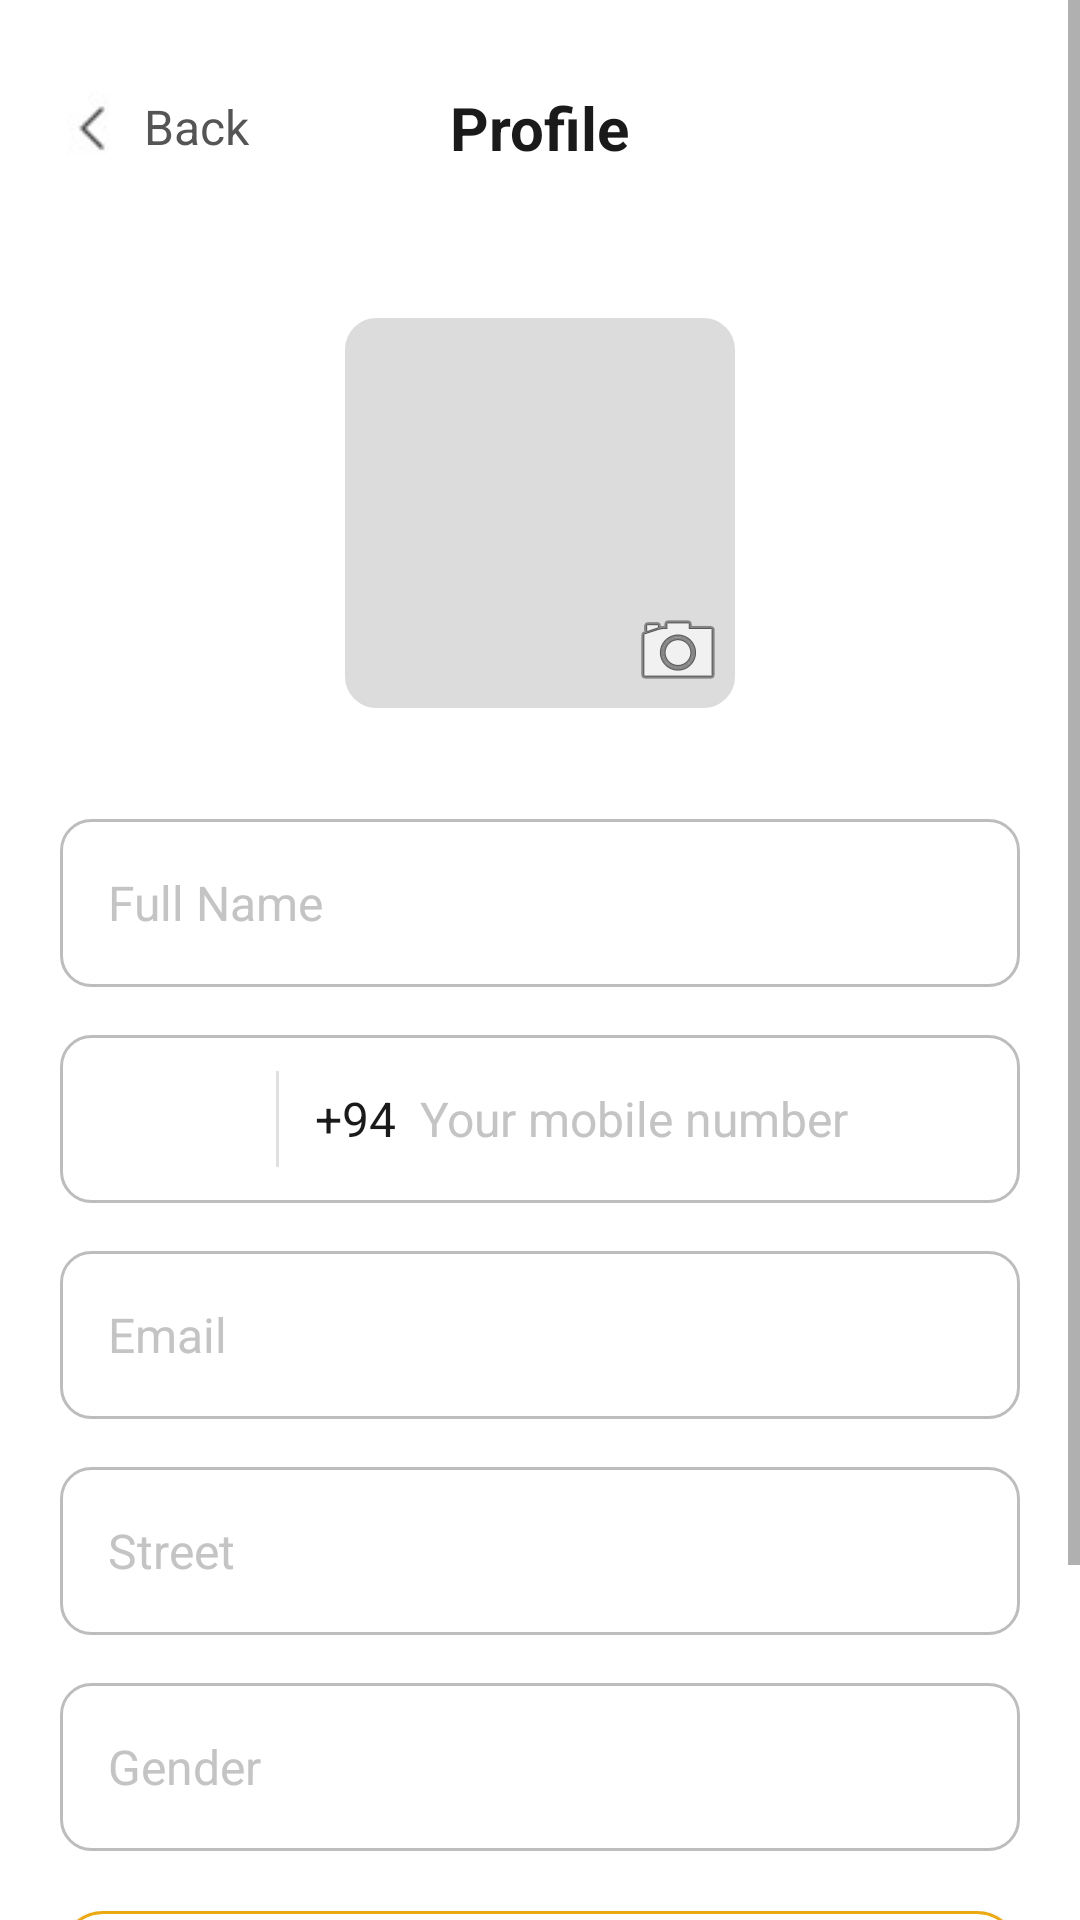

Icons on this 1080px×1920px Android screen, each with the point to tap as (x,y):
camera: (678,649)
